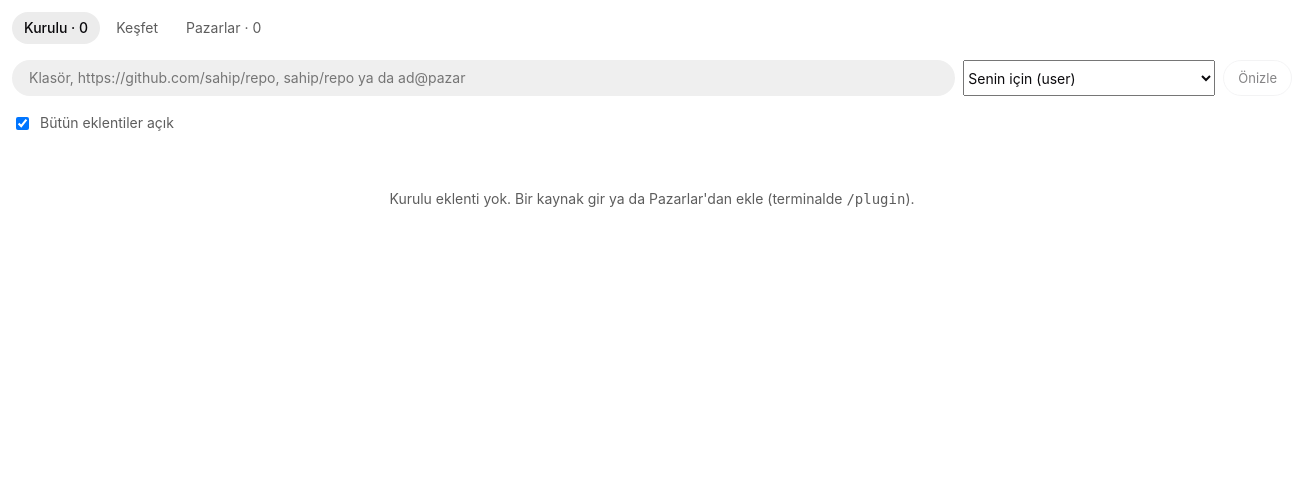
it: önizleme gösterir, çalıştırılabilir eklentiyi onayla kurar, kapatır ve iki adımda kaldırır
The image size is (1304, 504).
Expected: the text "Kurulu eklenti yok" is shown, 390,190 -> 846,207
Replace the text in the field named "Eklenti kaynağı" with "./bicimci": (484, 78) 12,60 -> 955,96
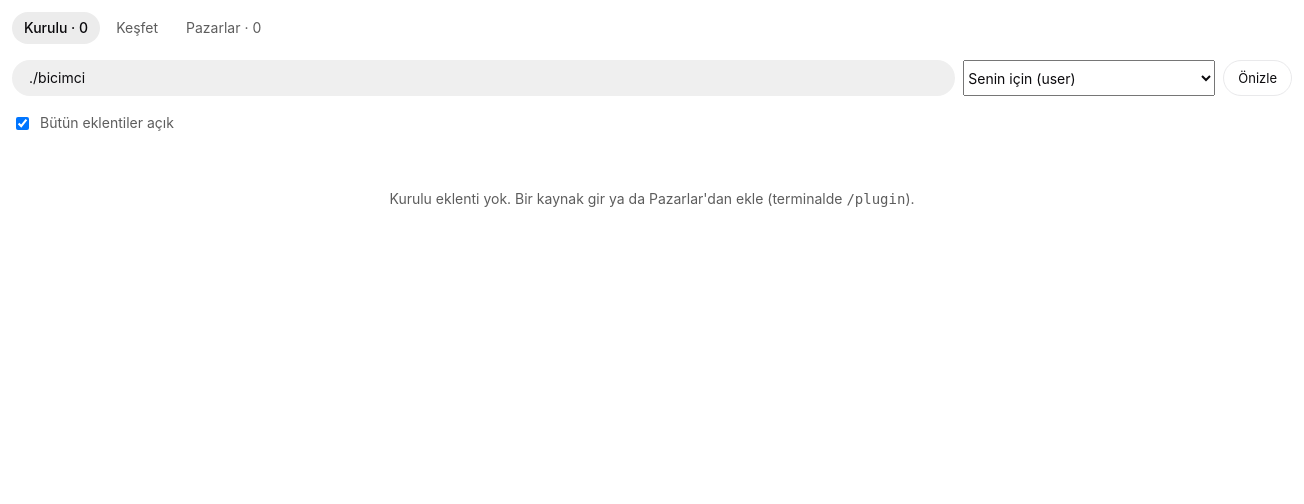
Click the button "Önizle": (1258, 78) 1223,60 -> 1292,96
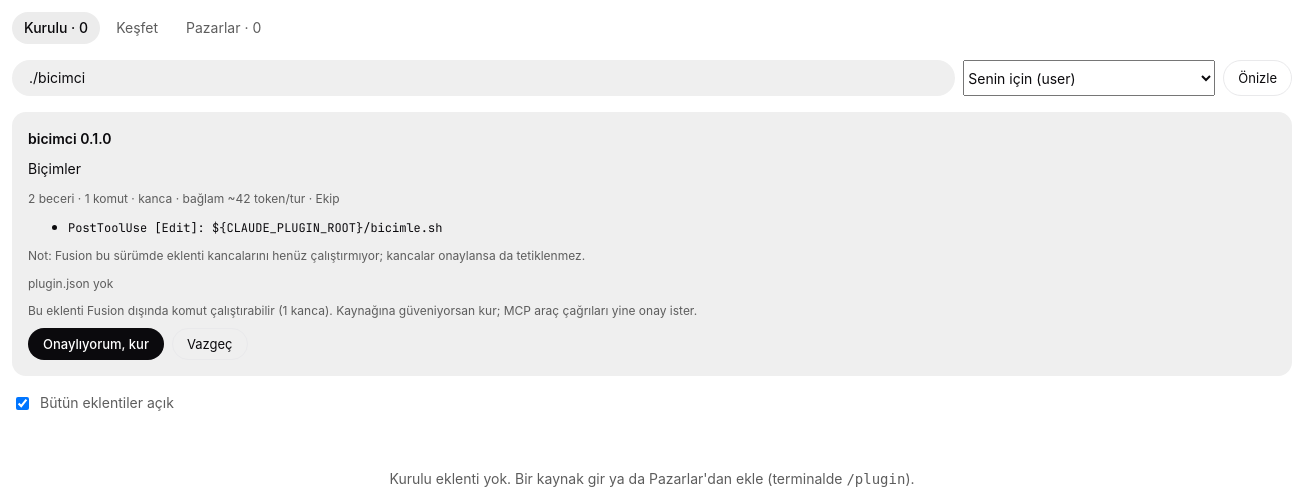
Expected: the text "2 beceri · 1 komut · kanca · bağlam ~42 token/tur · Ekip" is shown, 28,191 -> 340,206
Expected: the text "PostToolUse [Edit]: ${CLAUDE_PLUGIN_ROOT}/bicimle.sh" is shown, 68,220 -> 442,236
Expected: the text "kancalar onaylansa da tetiklenmez" is shown, 28,248 -> 585,263
Click the button "Onaylıyorum, kur": (96, 344) 28,328 -> 164,360
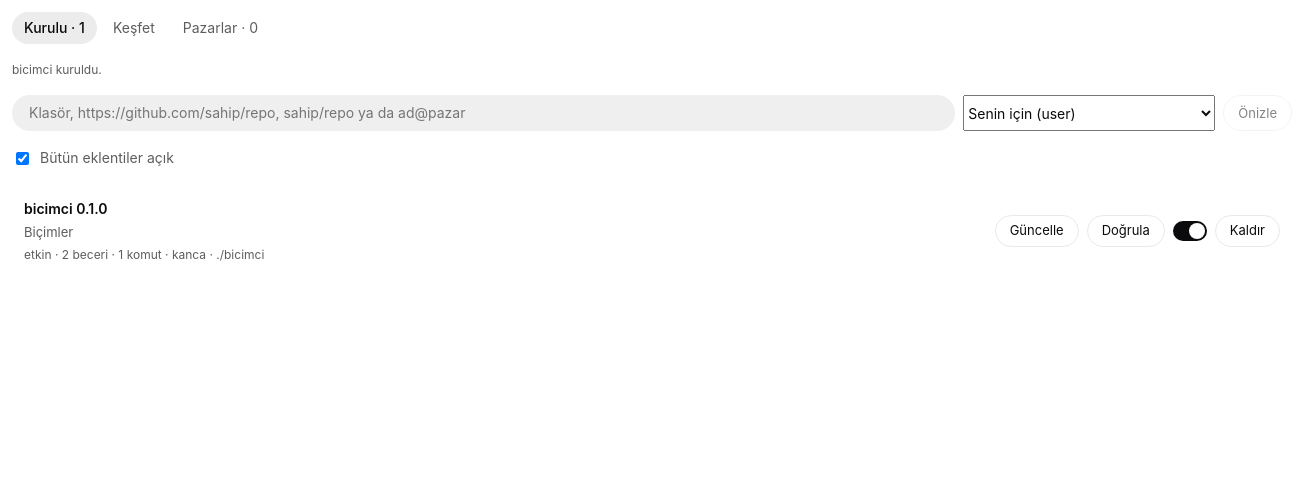
Expected: the text "bicimci 0.1.0" is shown, 24,200 -> 108,217
Click the switch named "bicimci etkin": (1190, 231) 1173,221 -> 1207,241
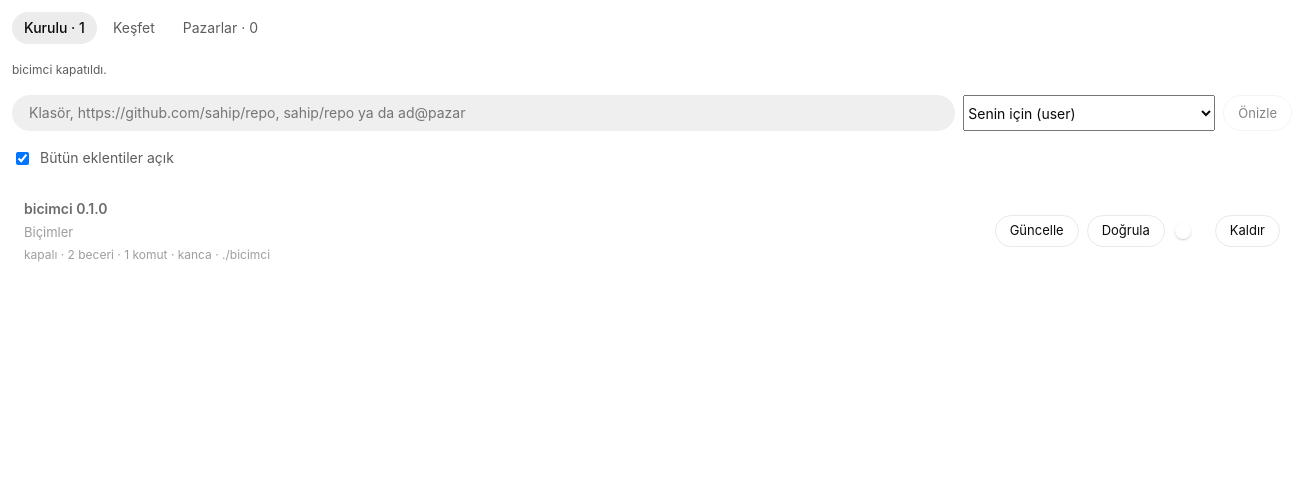
Click the button "Kaldır": (1247, 231) 1215,215 -> 1280,247
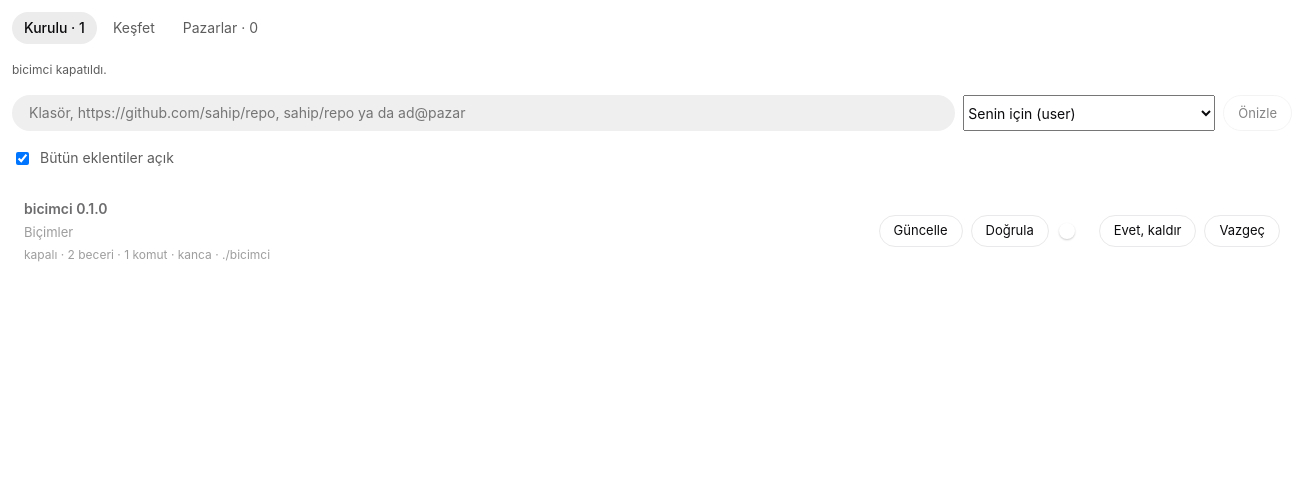
Click the button "Evet, kaldır": (1148, 231) 1099,215 -> 1196,247
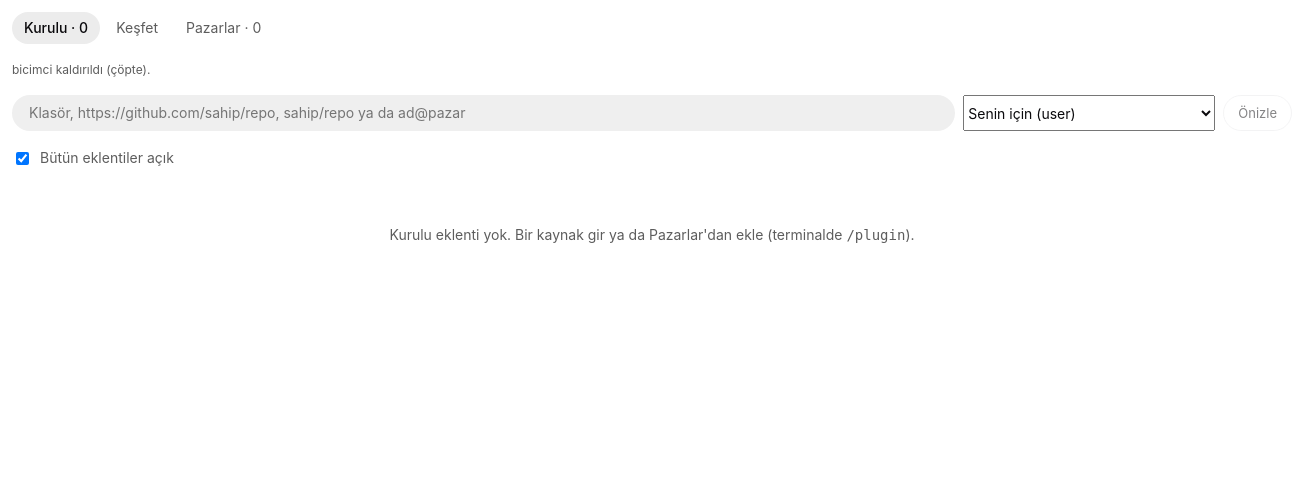
Expected: the text "Kurulu eklenti yok" is shown, 390,226 -> 846,243
